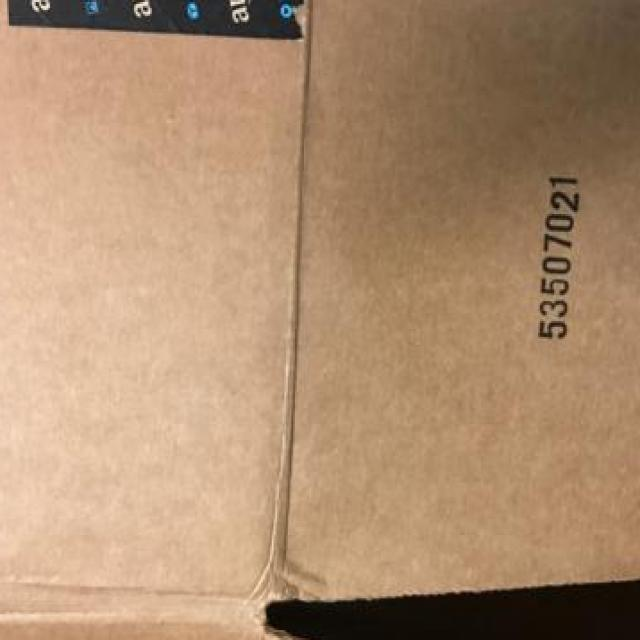organic: (8, 4, 631, 629)
